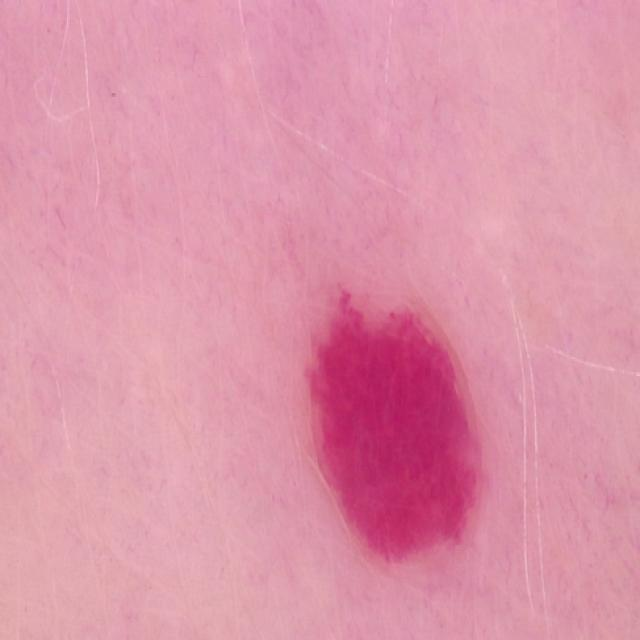Vascular Lesions: (274, 292, 554, 640)
